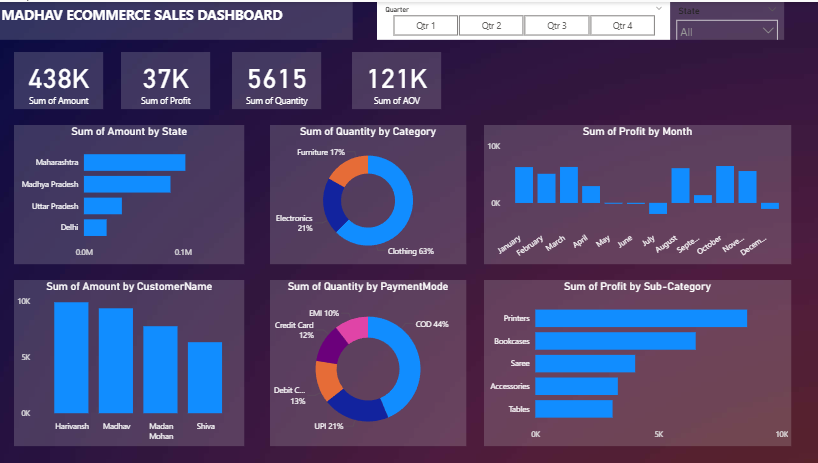

The dashboard page shown, as its layout file describes it:
{"tool":"powerbi","page":{"name":"Page 1","canvas":[1280,720],"ordinal":0},"visuals":[{"type":"textbox","box":[0,0,552.7,58.8],"z":0},{"type":"columnChart","fields":{"Category":["Orders.Order Date.Variation.Date Hierarchy.Month"],"Y":["Details.Profit"]},"box":[757.6,191.5,478.7,216.7],"z":1000},{"type":"barChart","fields":{"Category":["Details.Sub-Category"],"Y":["Details.Profit"]},"box":[757.6,433.4,478.7,258.7],"z":2000},{"type":"donutChart","fields":{"Category":["Details.Category"],"Y":["Details.Quantity"]},"box":[423.3,191.5,305.7,216.7],"z":3000},{"type":"donutChart","fields":{"Y":["Details.Quantity"],"Category":["Details.PaymentMode"]},"box":[423.3,433.4,305.7,258.7],"z":4000},{"type":"card","fields":{"Values":["Details.Amount"]},"box":[25.2,77.3,139.4,89],"z":5000},{"type":"card","fields":{"Values":["Details.Profit"]},"box":[191.5,77.3,139.4,89],"z":6000},{"type":"card","fields":{"Values":["Details.Quantity"]},"box":[364.5,77.3,139.4,89],"z":7000},{"type":"card","fields":{"Values":["Details.AOV"]},"box":[552.7,77.3,139.4,89],"z":8000},{"type":"barChart","fields":{"Y":["Details.Amount"],"Category":["Orders.State"]},"box":[25.2,191.5,359.5,216.7],"z":9000},{"type":"columnChart","fields":{"Category":["Orders.CustomerName"],"Y":["Details.Amount"]},"box":[25.2,433.4,359.5,258.7],"z":10000},{"type":"slicer","fields":{"Values":["Orders.Order Date.Variation.Date Hierarchy.Quarter"]},"box":[591.3,0,456.9,58.8],"z":11000},{"type":"slicer","fields":{"Values":["Orders.State"]},"box":[1048.2,0,178.1,58.8],"z":12000}]}

Visuals, with their boxes in screenshot pixels (x1, y1, x2, y2), scaled from the page's 1280x720 canvas onto the 818x463 screenshot:
textbox: [0,0,353,38]
columnChart - Orders.Order Date.Variation.Date Hierarchy.Month x Details.Profit: [484,123,790,262]
barChart - Details.Sub-Category x Details.Profit: [484,279,790,445]
donutChart - Details.Category x Details.Quantity: [271,123,466,262]
donutChart - Details.Quantity x Details.PaymentMode: [271,279,466,445]
card - Details.Amount: [16,50,105,107]
card - Details.Profit: [122,50,211,107]
card - Details.Quantity: [233,50,322,107]
card - Details.AOV: [353,50,442,107]
barChart - Details.Amount x Orders.State: [16,123,246,262]
columnChart - Orders.CustomerName x Details.Amount: [16,279,246,445]
slicer - Orders.Order Date.Variation.Date Hierarchy.Quarter: [378,0,670,38]
slicer - Orders.State: [670,0,784,38]
